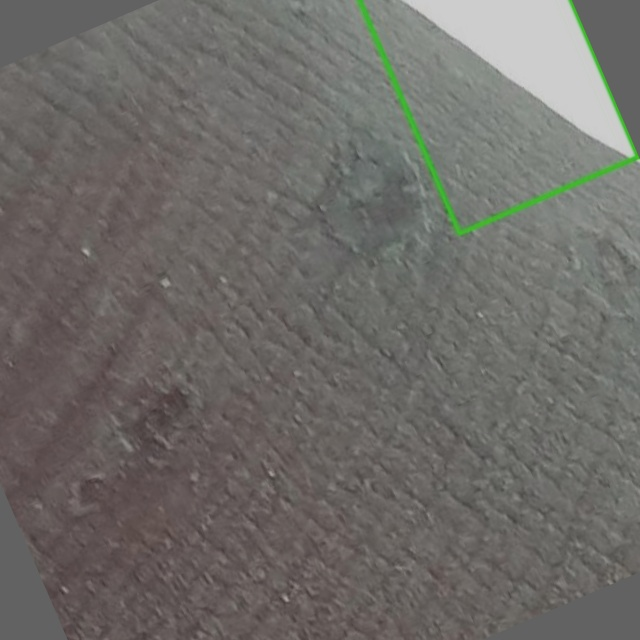Contact Dermatitis: (359, 0, 637, 233)
